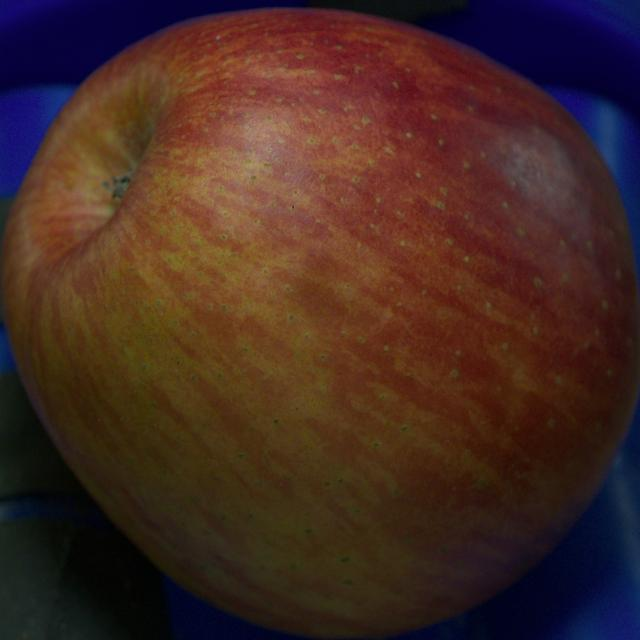apple: (2, 9, 639, 637)
